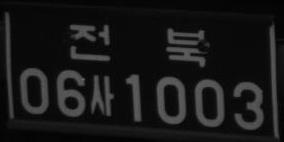0: (156, 76, 187, 126), (18, 66, 49, 115), (194, 79, 225, 128)
1: (120, 73, 147, 122)
3: (232, 80, 264, 131)
6: (56, 69, 86, 118)
사: (89, 74, 113, 117)
전북_D: (69, 23, 210, 67)
